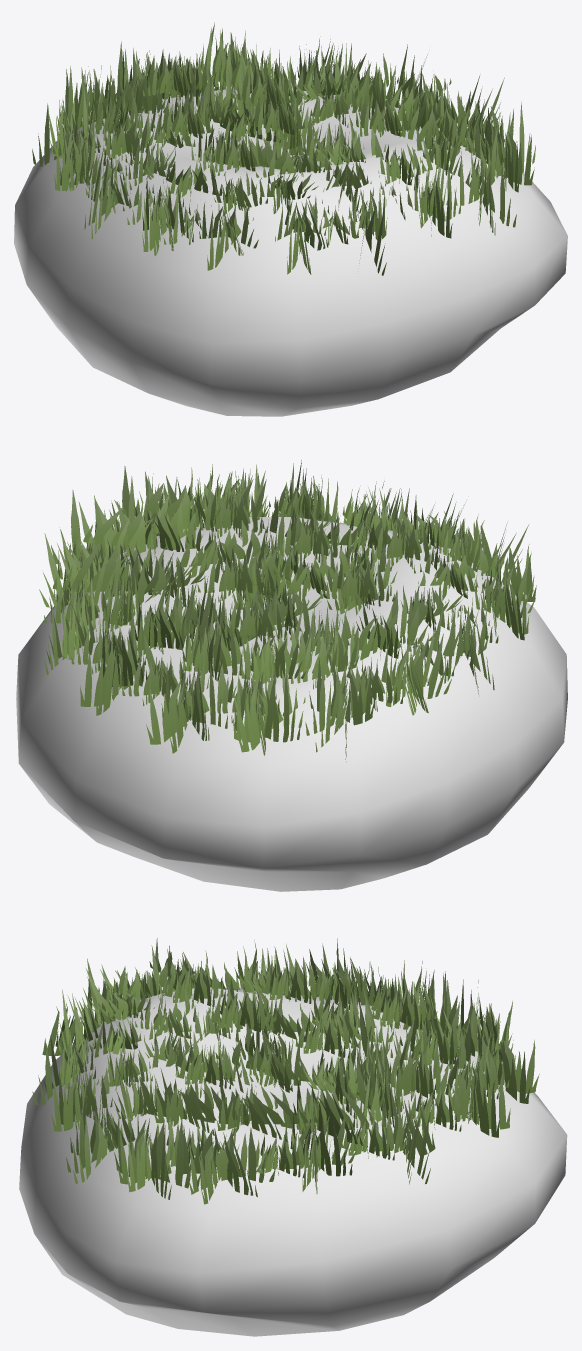
The model's file is RoundRock.fbx.
3 views of the same model, one above another, from view 1: azimuth 30°, elevation 25°; view 2: azimuth 150°, elevation 25°; view 3: azimuth 270°, elevation 25° (orthographic). The views are drawn at different scales.
Parts seen in each view (by area): view 1: RoundRock, RoundRockGrass; view 2: RoundRock, RoundRockGrass; view 3: RoundRock, RoundRockGrass.
Part boxes in pixels (x1=…): RoundRock: x1=14, y1=88, x2=567, y2=416; RoundRockGrass: x1=32, y1=22, x2=535, y2=275; RoundRock: x1=16, y1=517, x2=567, y2=891; RoundRockGrass: x1=39, y1=460, x2=536, y2=761; RoundRock: x1=19, y1=987, x2=567, y2=1336; RoundRockGrass: x1=32, y1=938, x2=539, y2=1204.
Size of the model in its own units: 517 by 313 by 533.
